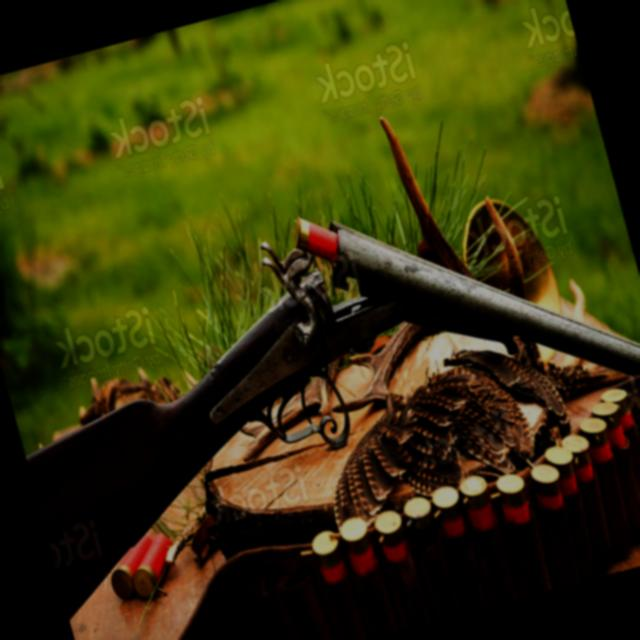shotgun: (0, 129, 640, 640)
